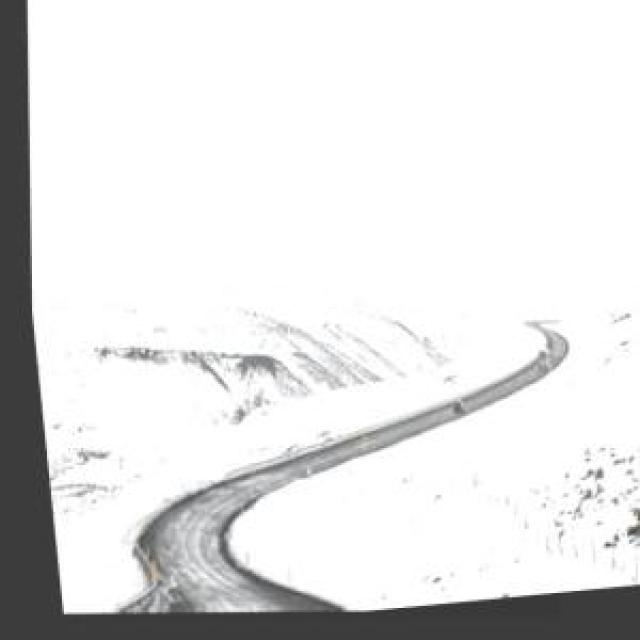ice-road: (112, 329, 560, 617)
